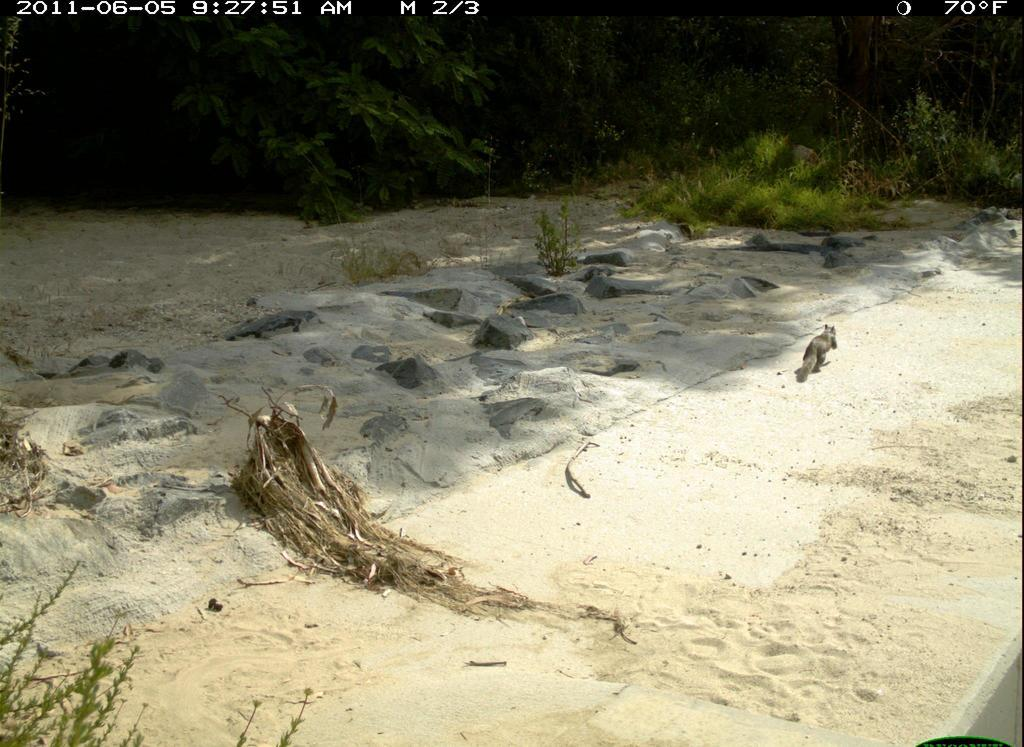squirrel: (789, 319, 850, 387)
